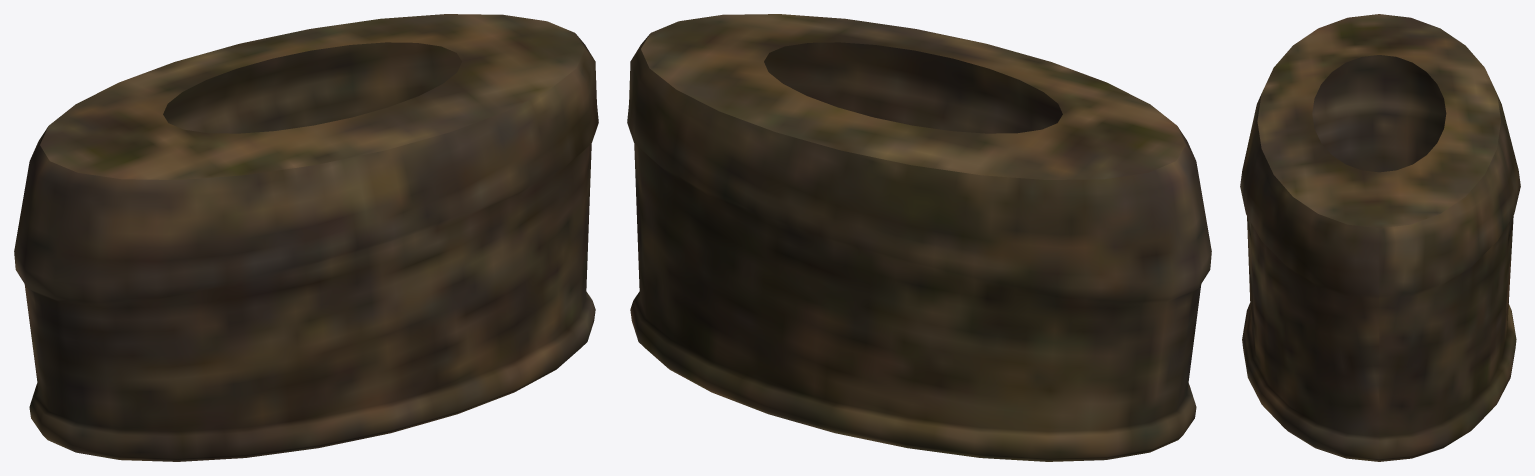
The model's file is wm_dol_goldur_1h_sword_a03_guard.fbx.
The picture shows the model from 3 angles, left to right: view 1: azimuth 30°, elevation 25°; view 2: azimuth 150°, elevation 25°; view 3: azimuth 270°, elevation 25°; orthographic projection. The views are drawn at different scales.
Parts seen in each view (by area): view 1: wm_dol_goldur_1h_sword_a03_guard; view 2: wm_dol_goldur_1h_sword_a03_guard; view 3: wm_dol_goldur_1h_sword_a03_guard.
Boxes of the visible parts, bbox=[...] form: wm_dol_goldur_1h_sword_a03_guard: bbox=[14, 14, 598, 461]; wm_dol_goldur_1h_sword_a03_guard: bbox=[627, 14, 1211, 461]; wm_dol_goldur_1h_sword_a03_guard: bbox=[1240, 14, 1520, 461].
Bounding box in the file's own units: 0.0581 × 0.0301 × 0.0284.
1 material, 1 textured.
